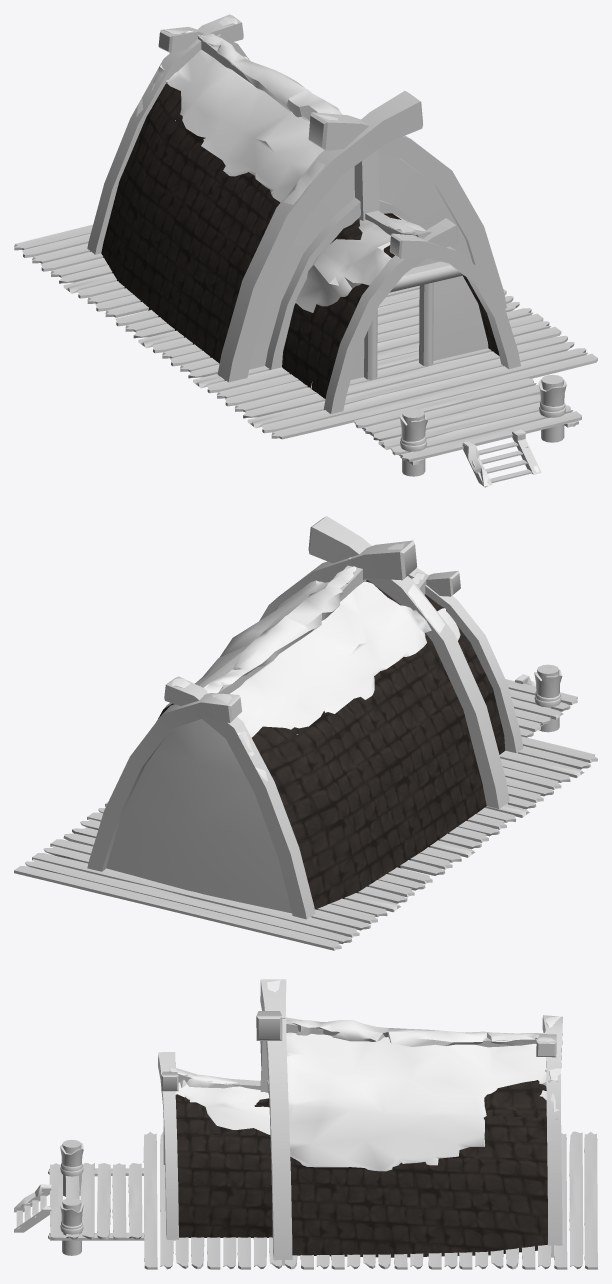
The model's file is PropHouse.fbx.
3 renders of one model, top to bottom at view 1: azimuth 30°, elevation 25°; view 2: azimuth 150°, elevation 25°; view 3: azimuth 270°, elevation 25°, orthographic. The views are drawn at different scales.
Visible parts, largest first — view 1: Plane; view 2: Plane; view 3: Plane.
Boxes of the visible parts, <box> form: Plane: <box>14,14,597,487</box>; Plane: <box>14,516,597,950</box>; Plane: <box>14,979,597,1269</box>.
Size of the model in its own units: 2551 by 1971 by 4621.
